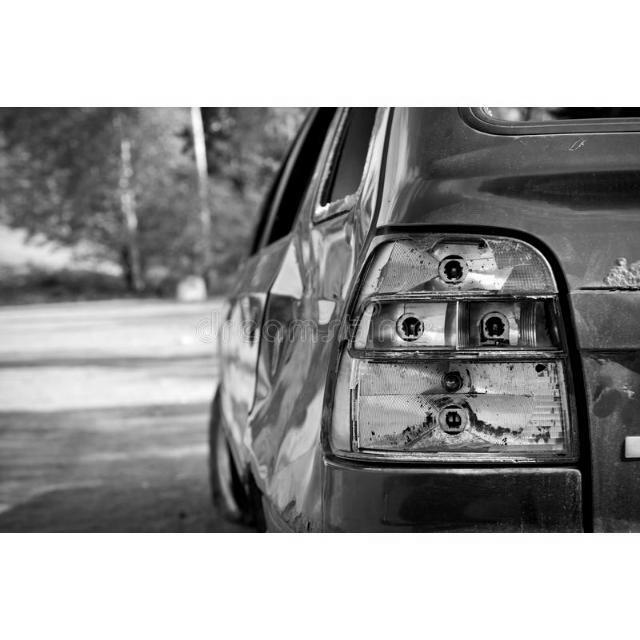Taillight-Damage: (322, 218, 590, 474)
